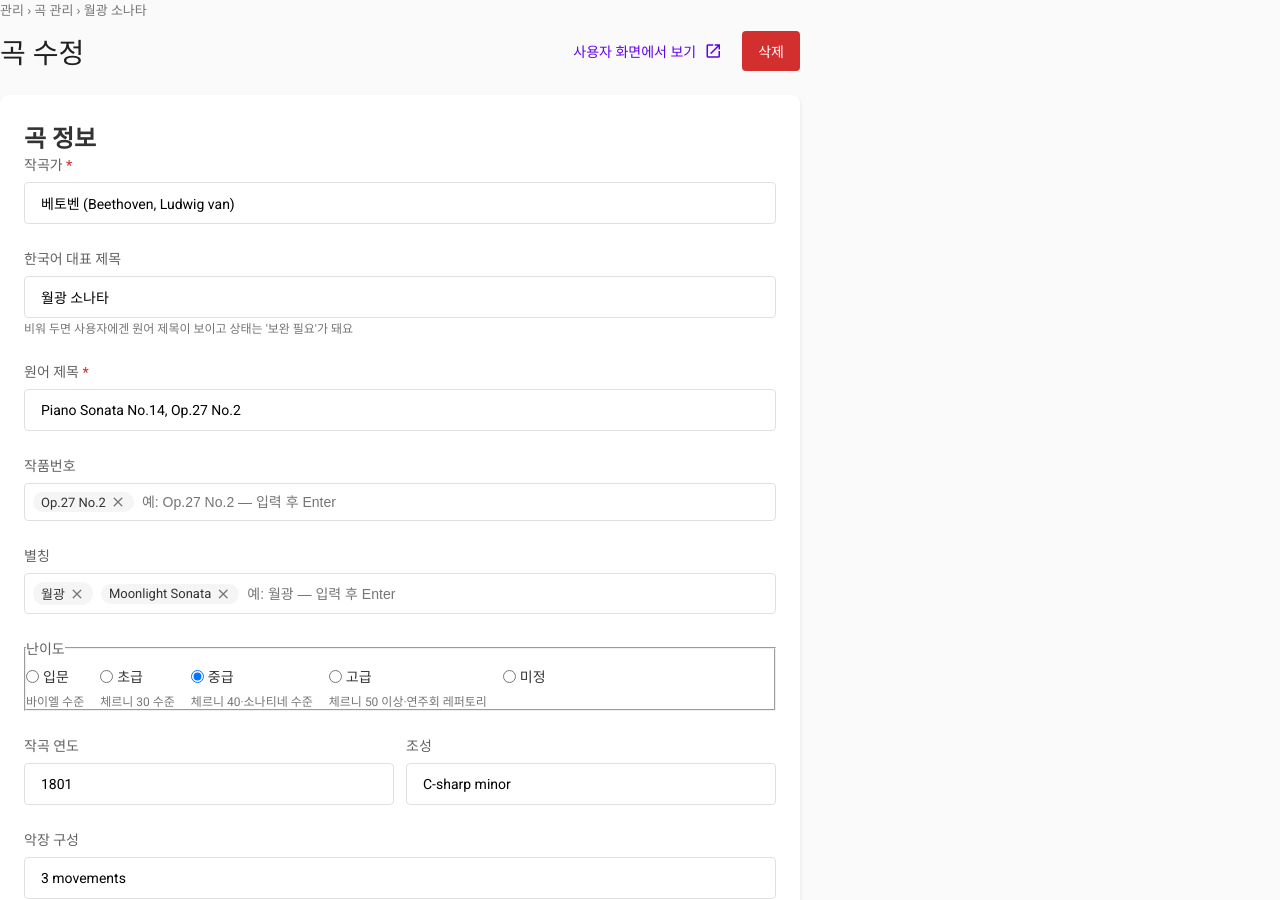
Test case: WorkFormPage — 삭제·판본 영역 › 판본 0개·다운로드 기록 없음 → '이 곡을 삭제할까요?' → DELETE → 목록 + '삭제했어요'
Check: the field labelled "원어 제목" holds "Piano Sonata No.14, Op.27 No.2", box [24, 389, 776, 431]
What coordinates should you click on to do the following:
click the button "삭제"
I would click on:
 (771, 51)
Its box is [742, 31, 800, 71].
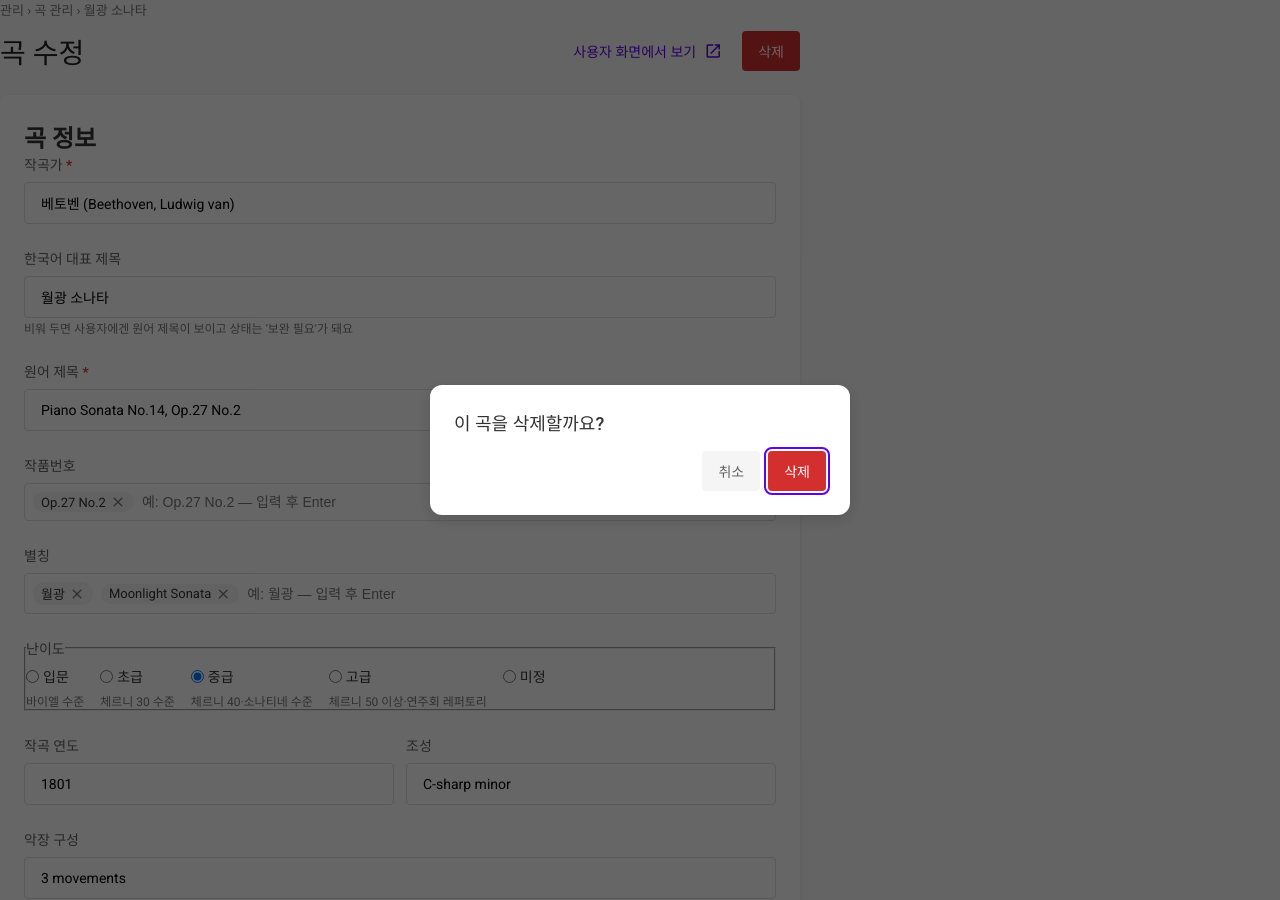
What coordinates should you click on to do the following:
click the button "삭제"
I would click on:
 (797, 471)
Its box is [768, 451, 826, 491].
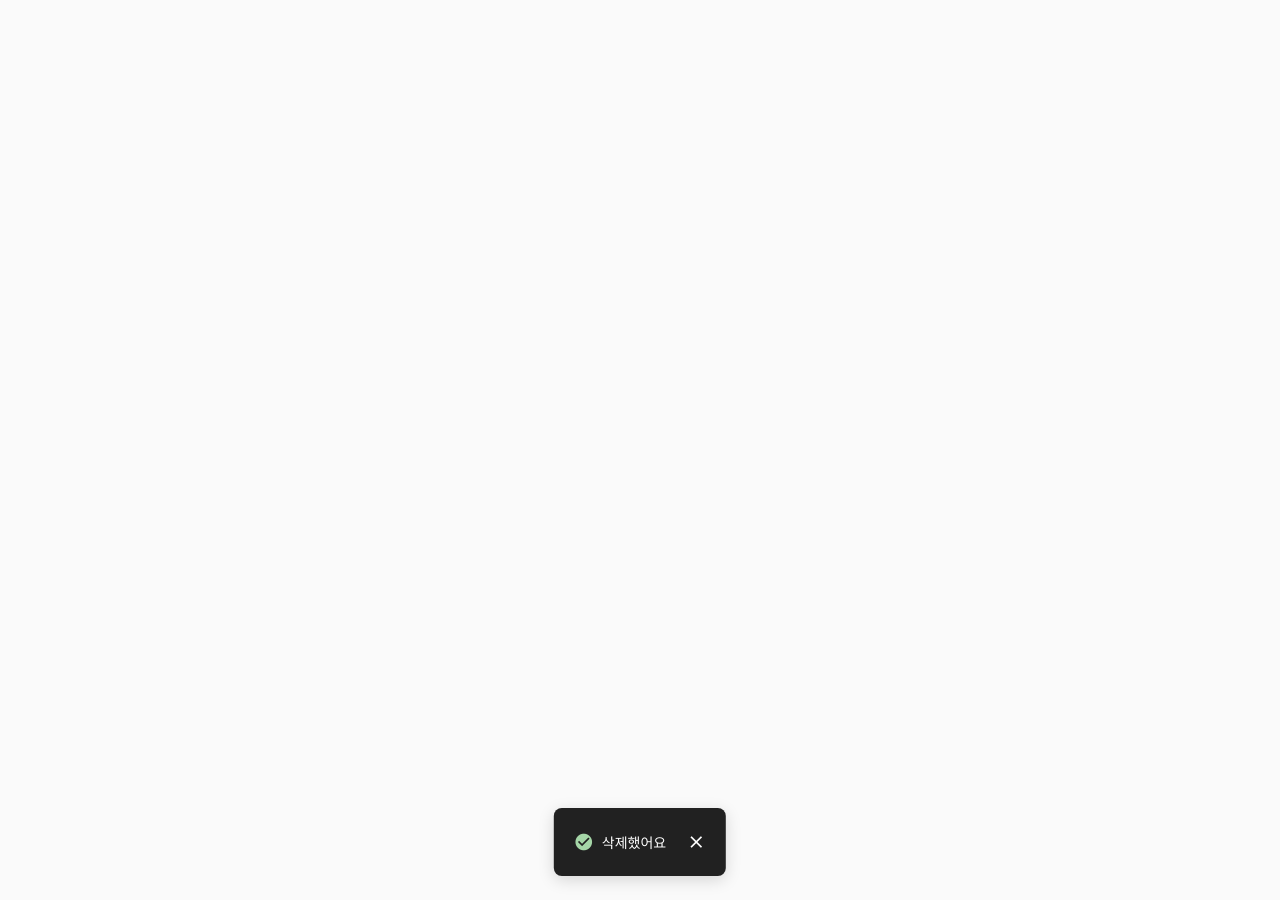
Check: the text "삭제했어요" is shown, box [602, 832, 666, 852]
